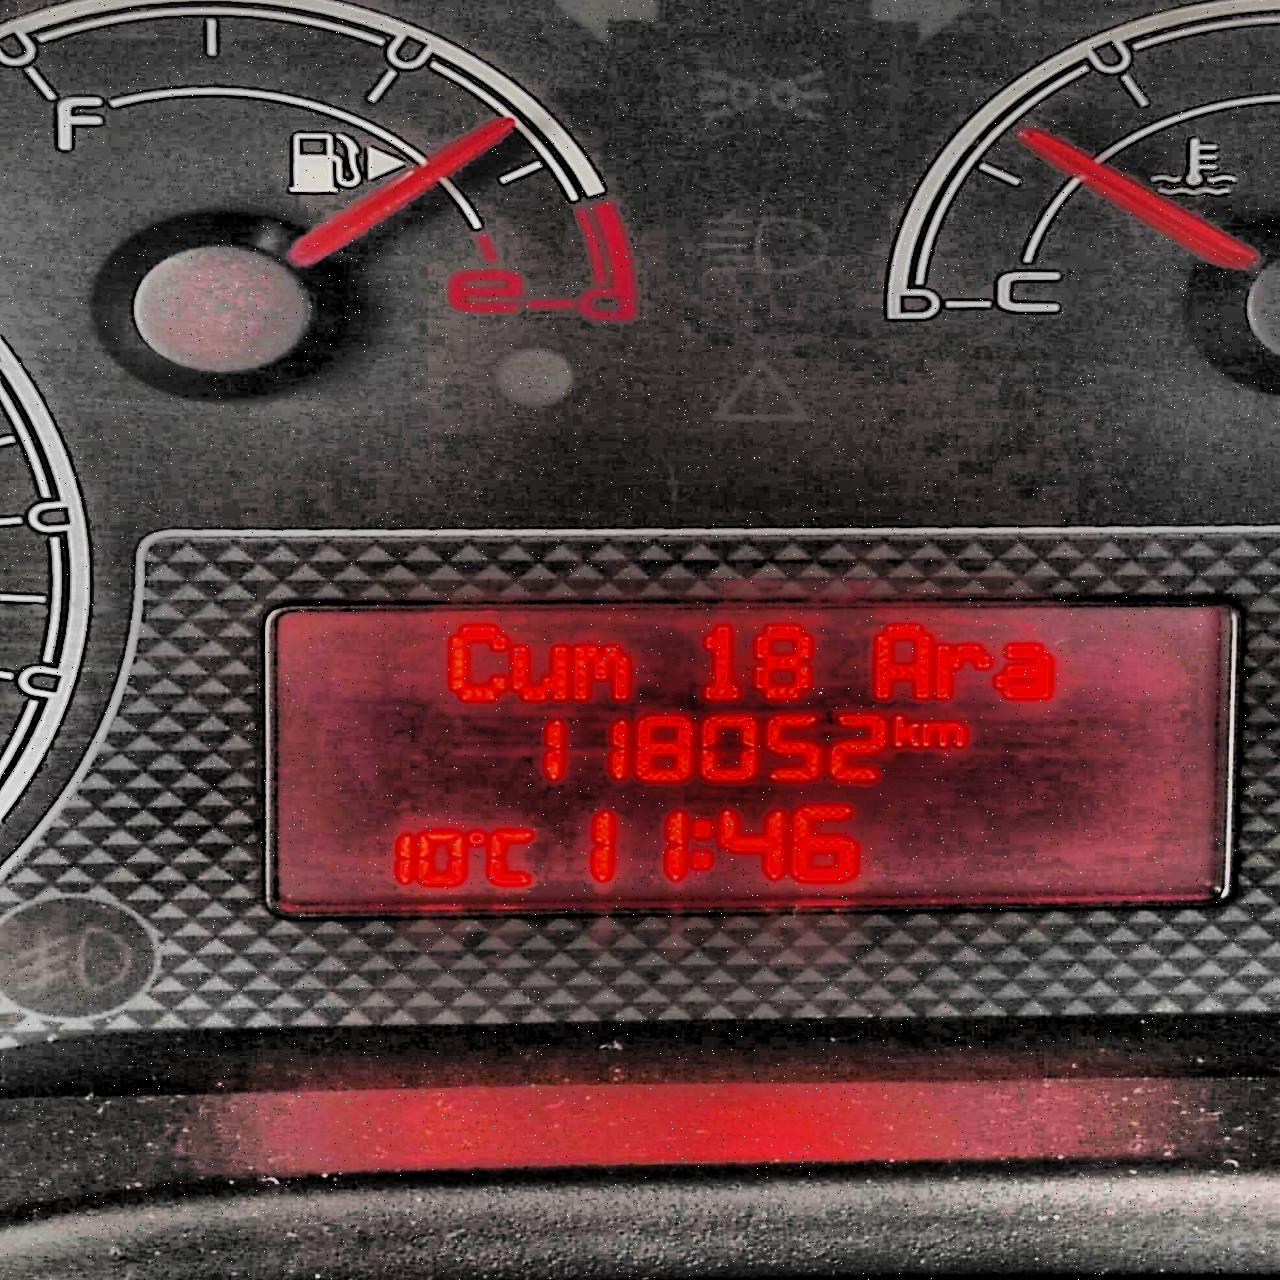0: (693, 710, 762, 784), (415, 826, 465, 887)
1: (686, 618, 744, 704), (579, 805, 620, 886), (652, 803, 689, 886), (532, 714, 576, 784), (597, 712, 632, 783), (386, 828, 415, 886)
2: (824, 707, 885, 784)
4: (715, 805, 784, 884)
5: (763, 708, 824, 785)
6: (787, 799, 862, 886)
8: (747, 618, 818, 702), (632, 708, 692, 785)
X: (435, 617, 509, 707), (863, 618, 933, 702), (993, 636, 1061, 704), (570, 638, 635, 703), (509, 639, 570, 706), (934, 635, 993, 702), (486, 824, 535, 888), (922, 716, 971, 749), (888, 708, 921, 750), (689, 817, 714, 872)
odometer: (250, 588, 1250, 926)
